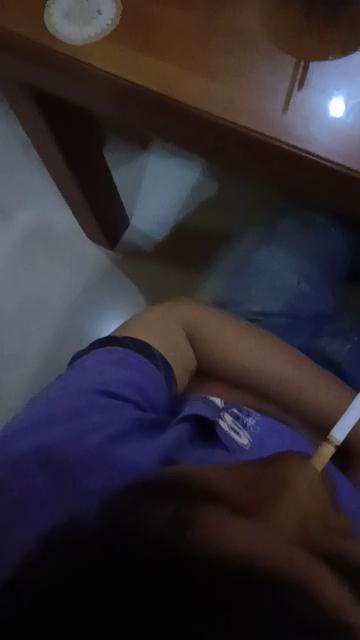Cigarette: (312, 391, 360, 473)
